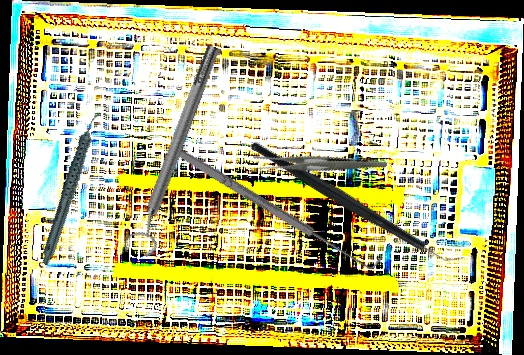Chopper: (248, 83, 469, 322)
Dressing Forceps: (249, 120, 388, 210)
Fixation Ring: (119, 40, 233, 260)
Handpiece: (12, 109, 132, 267)
Hook Surgical: (170, 137, 383, 277)
